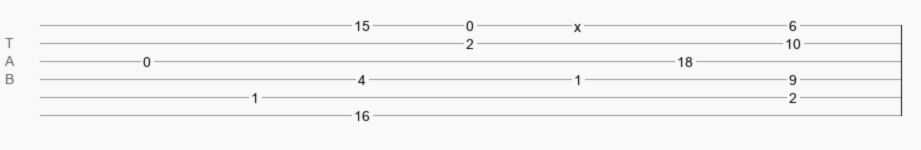0: (143, 54, 151, 64), (466, 18, 474, 28)
1: (251, 90, 259, 100), (574, 72, 582, 82)
10: (785, 36, 801, 46)
15: (354, 18, 370, 28)
16: (354, 108, 370, 118)
18: (677, 54, 693, 64)
2: (466, 36, 474, 46), (789, 90, 797, 100)
4: (358, 72, 366, 82)
6: (789, 18, 797, 28)
9: (789, 72, 797, 82)
x: (574, 19, 581, 27)
